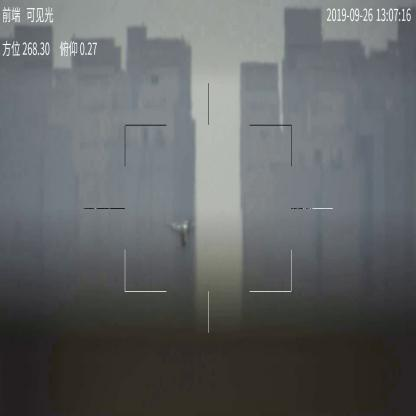uav: (167, 216, 195, 250)
